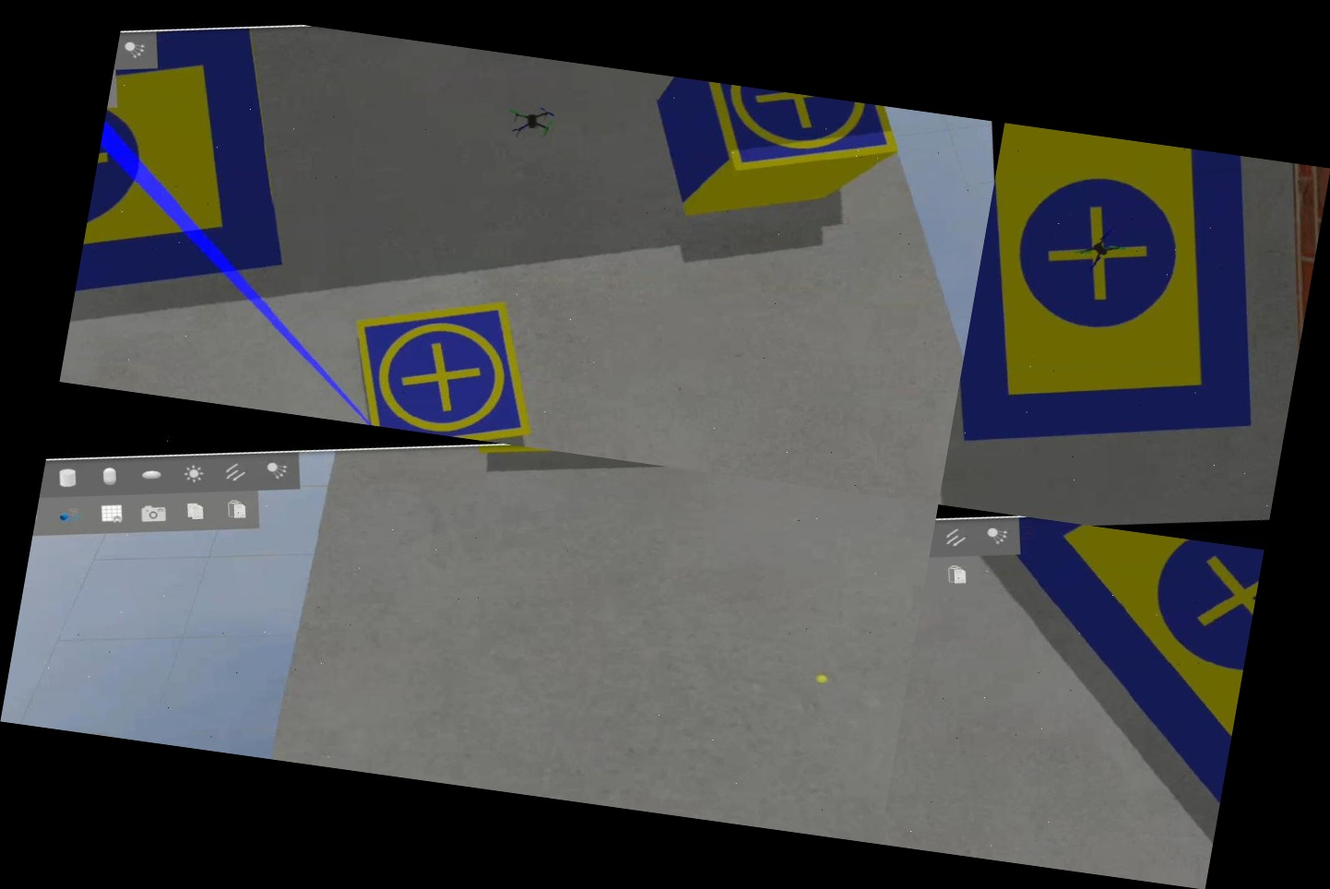large_base: (949, 123, 1299, 480), (961, 516, 1263, 870), (65, 5, 334, 380)
small_base: (330, 272, 561, 448), (666, 77, 912, 200)
